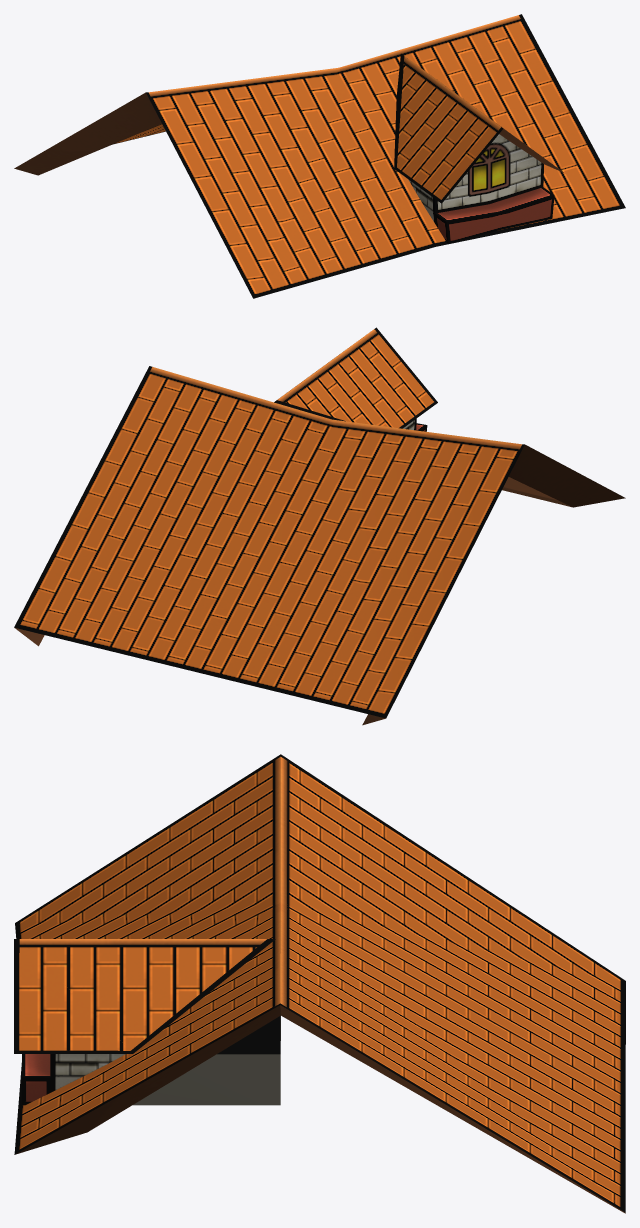
File: house_02.FBX
The picture shows the model from 3 angles, top to bottom: view 1: azimuth 30°, elevation 25°; view 2: azimuth 150°, elevation 25°; view 3: azimuth 270°, elevation 25°; orthographic projection. The views are drawn at different scales.
Parts seen in each view (by area): view 1: house_02; view 2: house_02; view 3: house_02.
Part boxes in pixels (<box>): house_02: <box>14,14,625,298</box>; house_02: <box>14,327,625,725</box>; house_02: <box>14,754,625,1213</box>.
Bounding box in the file's own units: 1585 × 761 × 1752.
